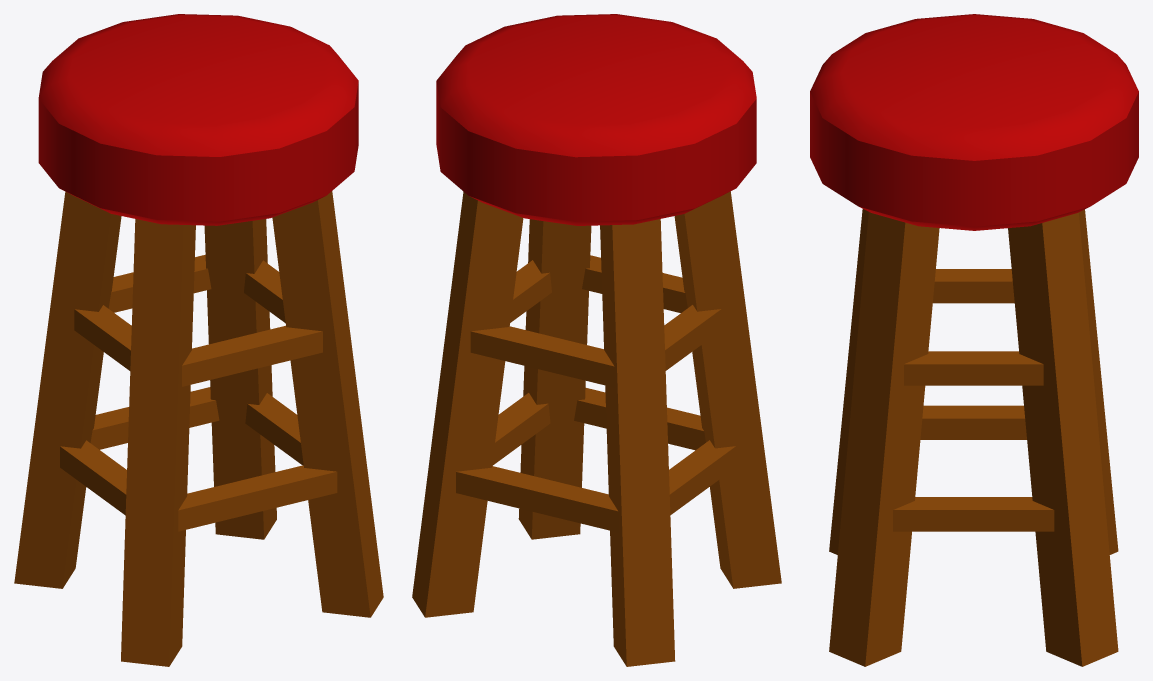
The model's file is Barstool.FBX.
The picture shows the model from 3 angles, left to right: view 1: azimuth 30°, elevation 25°; view 2: azimuth 150°, elevation 25°; view 3: azimuth 270°, elevation 25°; orthographic projection.
Parts seen in each view (by area): view 1: Cylinder002, leg-005, leg-006, leg-007, leg-008, Box009, Box010, Box015, Box016, Box013, Box012, Box011 (+1 smaller); view 2: Cylinder002, leg-007, leg-008, leg-005, leg-006, Box013, Box014, Box015, Box009, Box016, Box012, Box011 (+1 smaller); view 3: Cylinder002, leg-006, leg-008, Box012, Box011, Box015, leg-005, leg-007, Box016.
Boxes of the visible parts, x1=… form: Cylinder002: x1=38, y1=14, x2=358, y2=225; leg-005: x1=121, y1=219, x2=195, y2=666; leg-006: x1=272, y1=191, x2=383, y2=617; leg-007: x1=14, y1=191, x2=121, y2=588; leg-008: x1=204, y1=219, x2=276, y2=539; Box009: x1=178, y1=465, x2=337, y2=531; Box010: x1=182, y1=325, x2=322, y2=386; Box015: x1=60, y1=440, x2=126, y2=515; Box016: x1=74, y1=305, x2=131, y2=370; Box013: x1=90, y1=387, x2=219, y2=449; Box012: x1=245, y1=393, x2=303, y2=465; Box011: x1=244, y1=260, x2=285, y2=322; Cylinder002: x1=436, y1=14, x2=756, y2=225; leg-007: x1=600, y1=219, x2=675, y2=666; leg-008: x1=412, y1=191, x2=523, y2=617; leg-005: x1=674, y1=191, x2=781, y2=588; leg-006: x1=518, y1=219, x2=591, y2=539; Box013: x1=456, y1=466, x2=618, y2=532; Box014: x1=470, y1=326, x2=614, y2=387; Box015: x1=669, y1=440, x2=736, y2=515; Box009: x1=574, y1=388, x2=705, y2=450; Box016: x1=664, y1=305, x2=721, y2=370; Box012: x1=492, y1=393, x2=550, y2=465; Box011: x1=510, y1=260, x2=551, y2=322; Cylinder002: x1=810, y1=14, x2=1138, y2=230; leg-006: x1=829, y1=212, x2=939, y2=666; leg-008: x1=1008, y1=212, x2=1118, y2=666; Box012: x1=893, y1=497, x2=1054, y2=531; Box011: x1=904, y1=351, x2=1043, y2=385; Box015: x1=920, y1=405, x2=1026, y2=439; leg-005: x1=829, y1=209, x2=868, y2=554; leg-007: x1=1078, y1=209, x2=1118, y2=554; Box016: x1=933, y1=269, x2=1014, y2=303.
Bounding box in the file's own units: 32.21 × 57.24 × 32.21.
